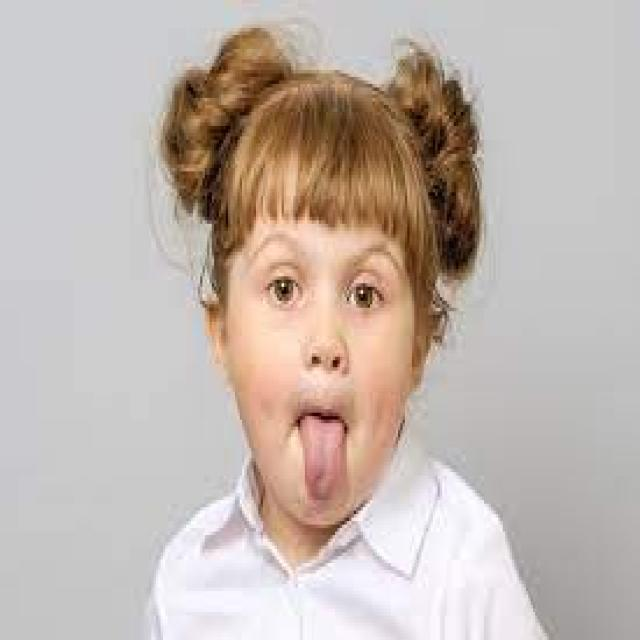tongue: (295, 414, 349, 501)
